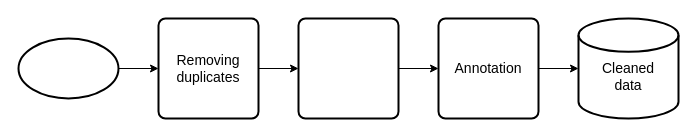
The diagram is 696 pixels wide and 136 high, and some of its shapes have lost their labels. The shapes that lost their labels are listed below. From the top down, each one's centre as x and y in pixels, then its label:
point (68, 68): Collecting images
point (348, 68): Filtering based on SSIM
